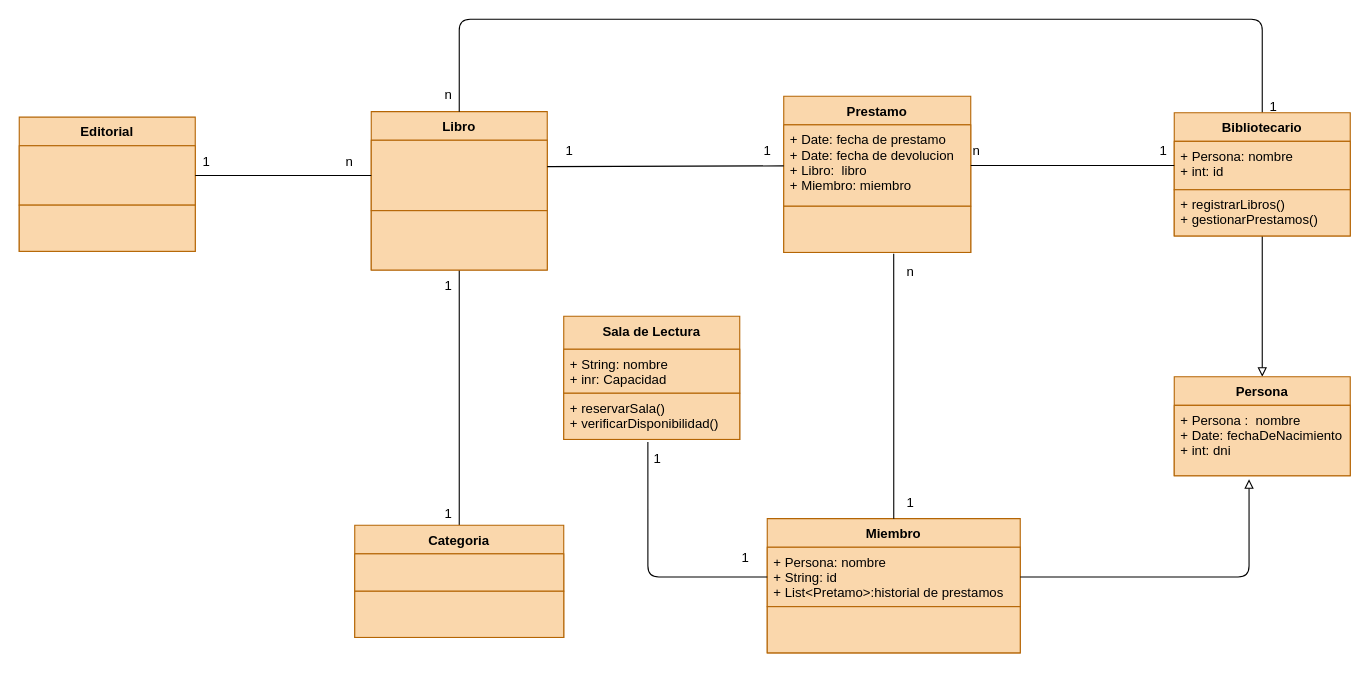
Some shapes in this 1370 by 675 pixel diagram are drawn without their labels. Each missing label, with the centre of its shape:
"+ agregarCategoria() + listarLibrosPorCategoria()" goes at (459,613).
"+ CalcularMultaPorRetraso() + marcarComoDevuelto()" goes at (877,228).
"+ registrarEditorial() + listarLibrosDeEditorial()" goes at (106,227).
"+ registrarMiembros() + verHistorial()" goes at (893,629).
"+ String: nombre de la categoria + String: descripcion" goes at (459,572).
"+ String: nommbre + String: direccion + int: contacto" goes at (106,175).
"+ String: titulo + String: autor + int: isbn + Categoria: categoria" goes at (458,175).
"+ verificarDisponibilidad() + verHistorial()" goes at (458,240).
